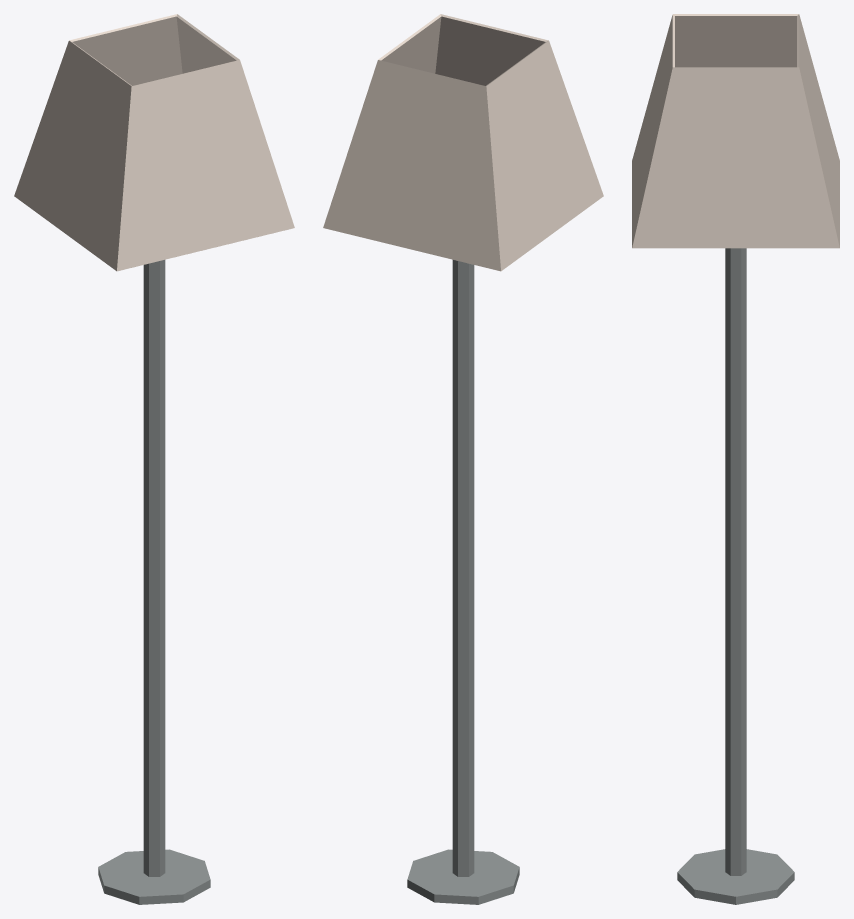
File: SM_Props_Interior_House_Room_Lamp_03.fbx
3 views of the same model, side by side, from view 1: azimuth 30°, elevation 25°; view 2: azimuth 150°, elevation 25°; view 3: azimuth 270°, elevation 25° (orthographic).
Visible parts, largest first — view 1: SM_Props_Interior_House_Room_Lamp_03; view 2: SM_Props_Interior_House_Room_Lamp_03; view 3: SM_Props_Interior_House_Room_Lamp_03.
Boxes of the visible parts, x1=… form: SM_Props_Interior_House_Room_Lamp_03: x1=14, y1=14, x2=294, y2=904; SM_Props_Interior_House_Room_Lamp_03: x1=323, y1=14, x2=603, y2=904; SM_Props_Interior_House_Room_Lamp_03: x1=632, y1=14, x2=839, y2=904.
Size of the model in its own units: 46.03 by 205 by 46.03.
